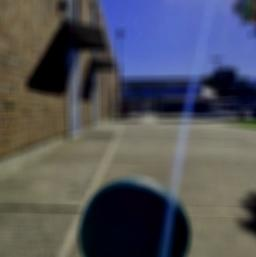algae: (76, 173, 192, 257)
